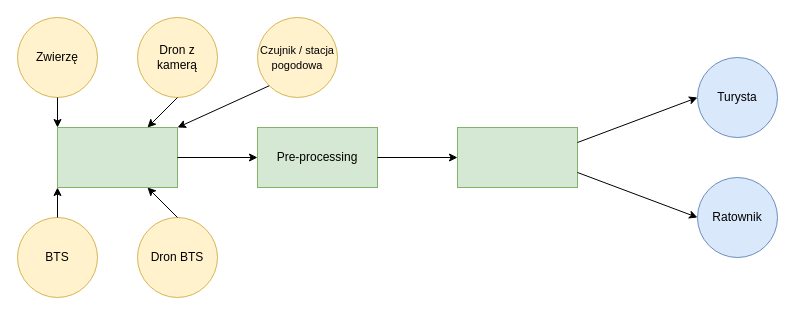
Some shapes in this 795 by 315 pixel diagram are drawn without their labels. Here are the shapes that lost their labels. From the top down, the box of each, then its label:
(56, 126, 178, 188): Zbiranie danych
(456, 126, 578, 188): Opracowanie danych
